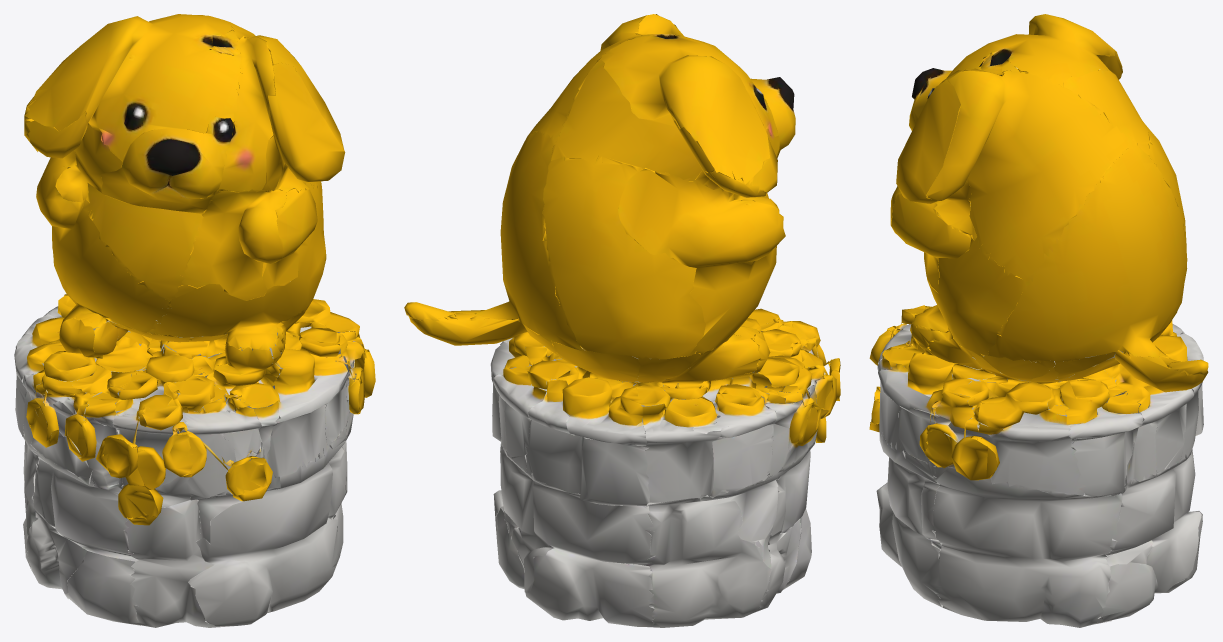
Rendered from greed.glb.
The picture shows the model from 3 angles, left to right: view 1: azimuth 30°, elevation 25°; view 2: azimuth 150°, elevation 25°; view 3: azimuth 270°, elevation 25°; orthographic projection. The views are drawn at different scales.
Visible parts, largest first — view 1: greed; view 2: greed; view 3: greed.
Boxes of the visible parts, x1,y1,x2,y2 form: greed: [14, 14, 375, 627]; greed: [404, 14, 840, 627]; greed: [869, 14, 1208, 627].
Size of the model in its own units: 0.6333 by 1 by 0.5837.
Materials: 1 (1 with a texture image).
